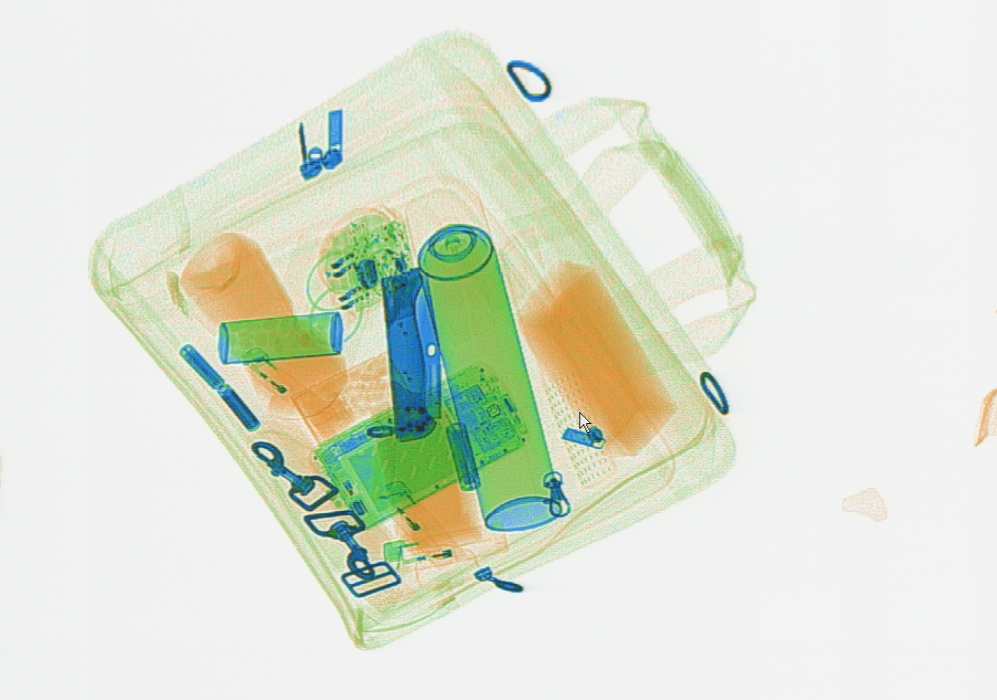knife: (381, 263, 442, 439)
lighter: (239, 346, 338, 432), (376, 477, 465, 571), (379, 521, 510, 575)
pressure: (403, 177, 560, 530)
